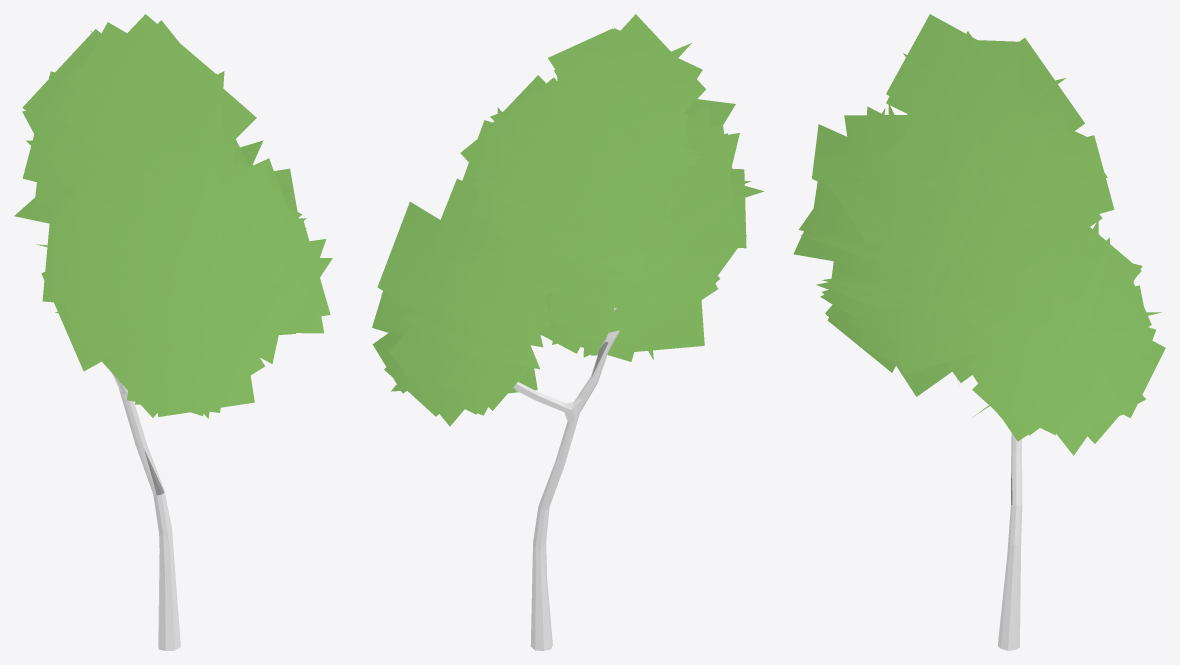
Rendered from birch-2.glb.
3 renders of one model, left to right at view 1: azimuth 30°, elevation 25°; view 2: azimuth 150°, elevation 25°; view 3: azimuth 270°, elevation 25°, orthographic. The views are drawn at different scales.
Parts seen in each view (by area): view 1: Node; view 2: Node; view 3: Node.
Part boxes in pixels (x1,y1,x2,y2): Node: [14, 14, 332, 650]; Node: [372, 14, 764, 650]; Node: [793, 14, 1165, 650].
Bounding box in the file's own units: 4.08 × 8.28 × 4.64.
